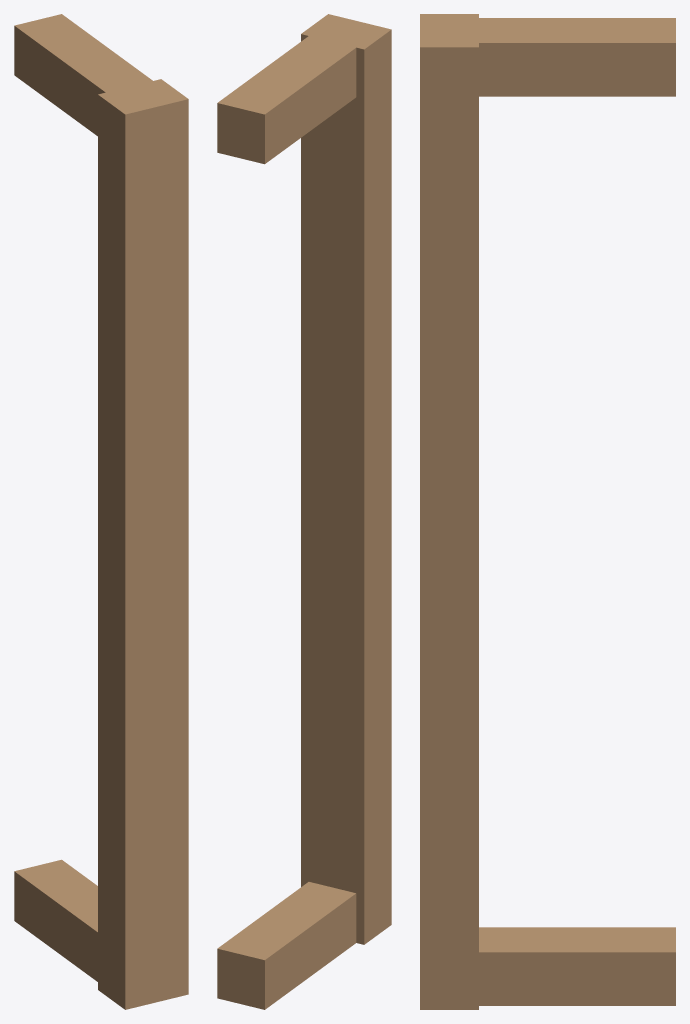
Rendered from hardware_handle_22.obj.
The picture shows the model from 3 angles, left to right: view 1: azimuth 30°, elevation 25°; view 2: azimuth 150°, elevation 25°; view 3: azimuth 270°, elevation 25°; orthographic projection. The views are drawn at different scales.
Parts seen in each view (by area): view 1: hardware_handle_22; view 2: hardware_handle_22; view 3: hardware_handle_22.
Part boxes in pixels (left/top/right/bottom): hardware_handle_22: left=14, top=14, right=188, bottom=1009; hardware_handle_22: left=217, top=14, right=391, bottom=1009; hardware_handle_22: left=420, top=14, right=675, bottom=1009.
Bounding box in the file's own units: 12.7 × 171 × 41.28.
